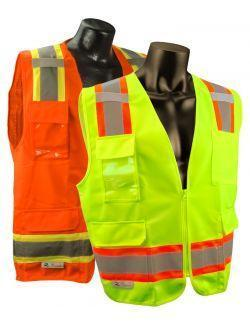vest: (75, 69, 240, 300), (6, 39, 147, 288)
